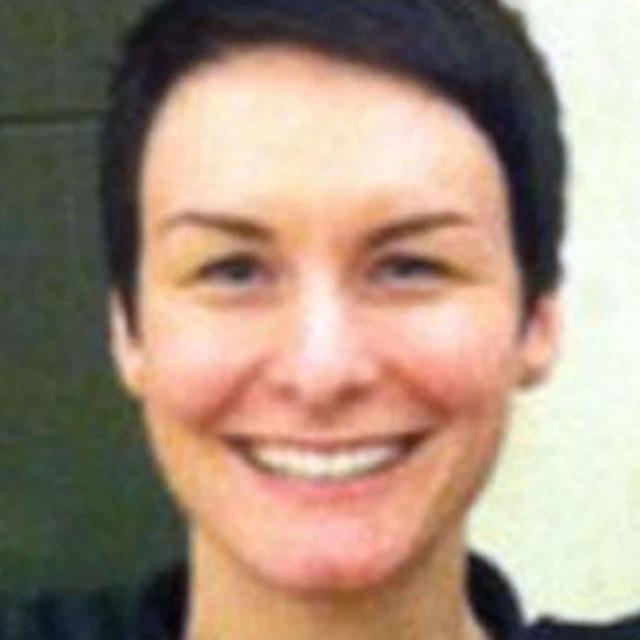Normal: (135, 50, 523, 596)
